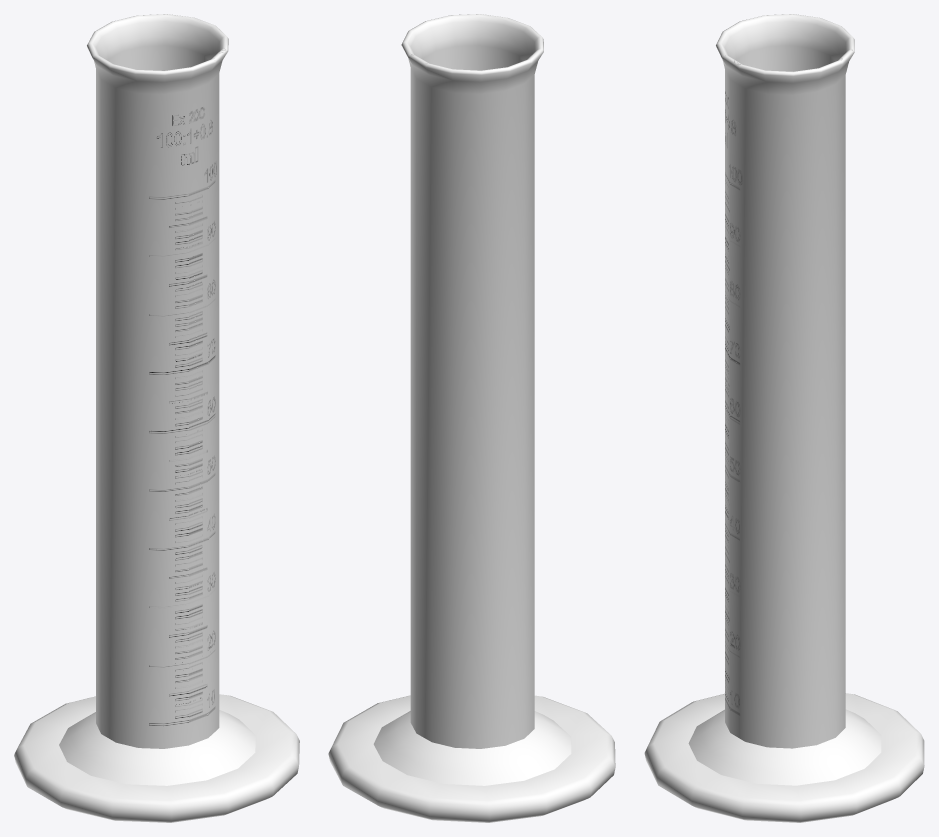
File: chemical_ measuringcylinder_100ml.FBX
3 views of the same model, side by side, from view 1: azimuth 30°, elevation 25°; view 2: azimuth 150°, elevation 25°; view 3: azimuth 270°, elevation 25° (orthographic).
Visible parts, largest first — view 1: chemical_ measuringcylinder_100ml; view 2: chemical_ measuringcylinder_100ml; view 3: chemical_ measuringcylinder_100ml.
Boxes of the visible parts, box(x1,y1,x2,y2) form: chemical_ measuringcylinder_100ml: box(14, 14, 299, 822); chemical_ measuringcylinder_100ml: box(328, 14, 615, 822); chemical_ measuringcylinder_100ml: box(644, 14, 924, 822).
Size of the model in its own units: 9.01 by 24.88 by 8.73.
1 material, 1 textured.
